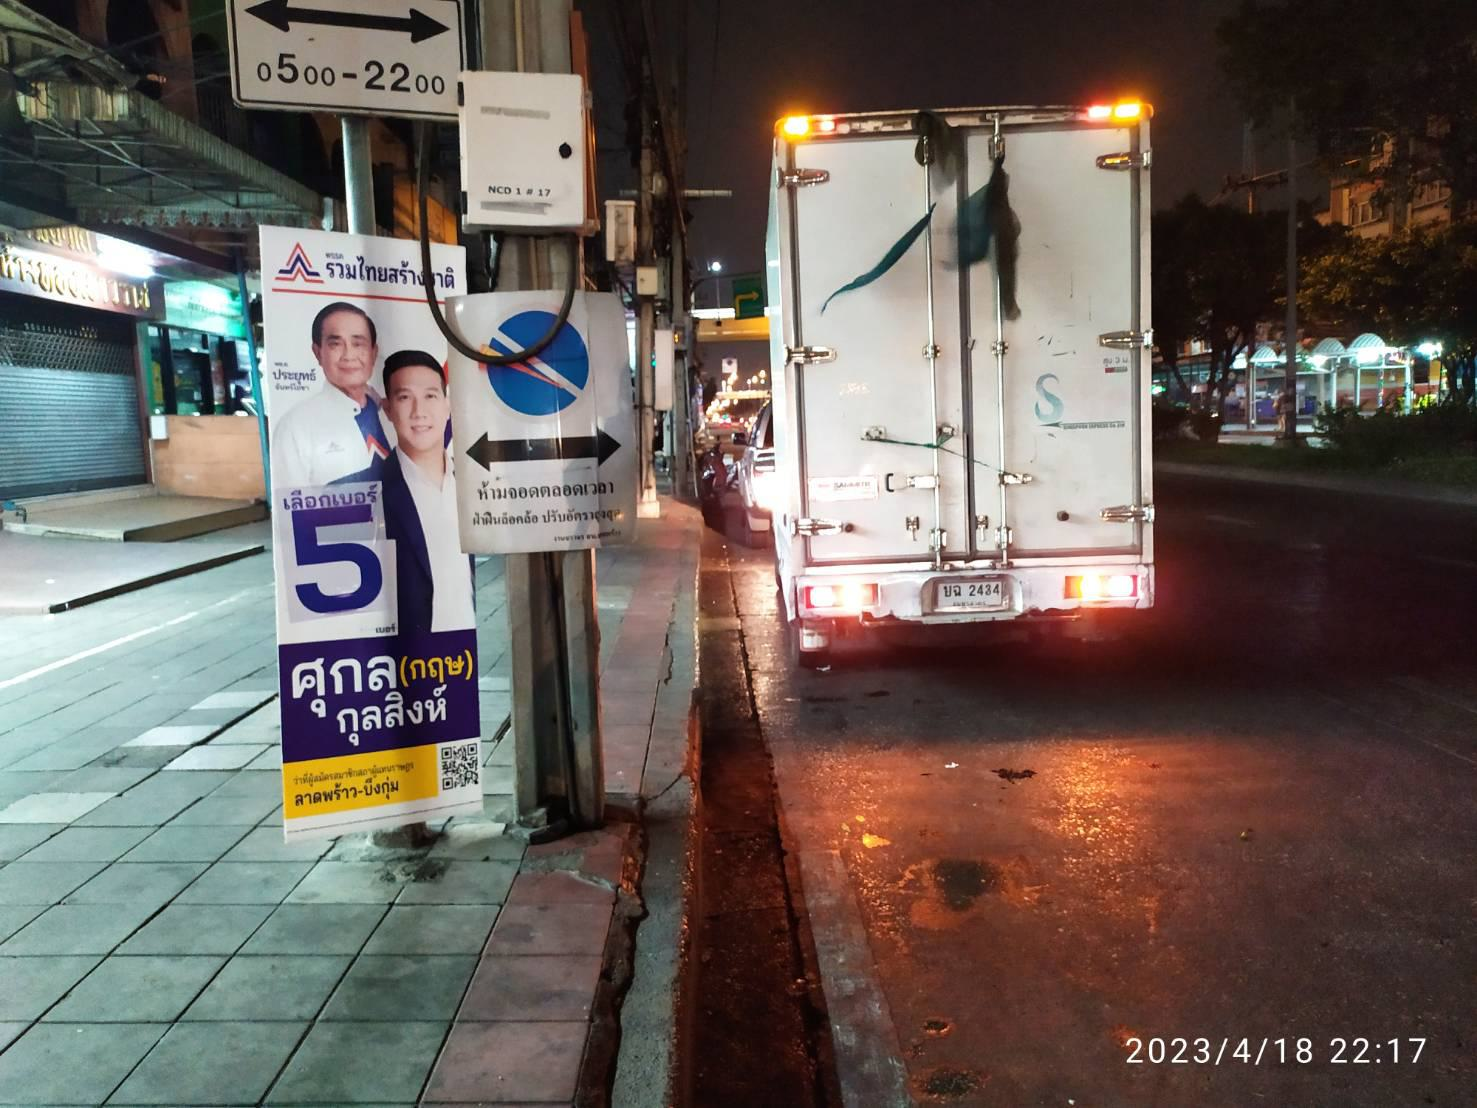Banner: (251, 235, 492, 843)
